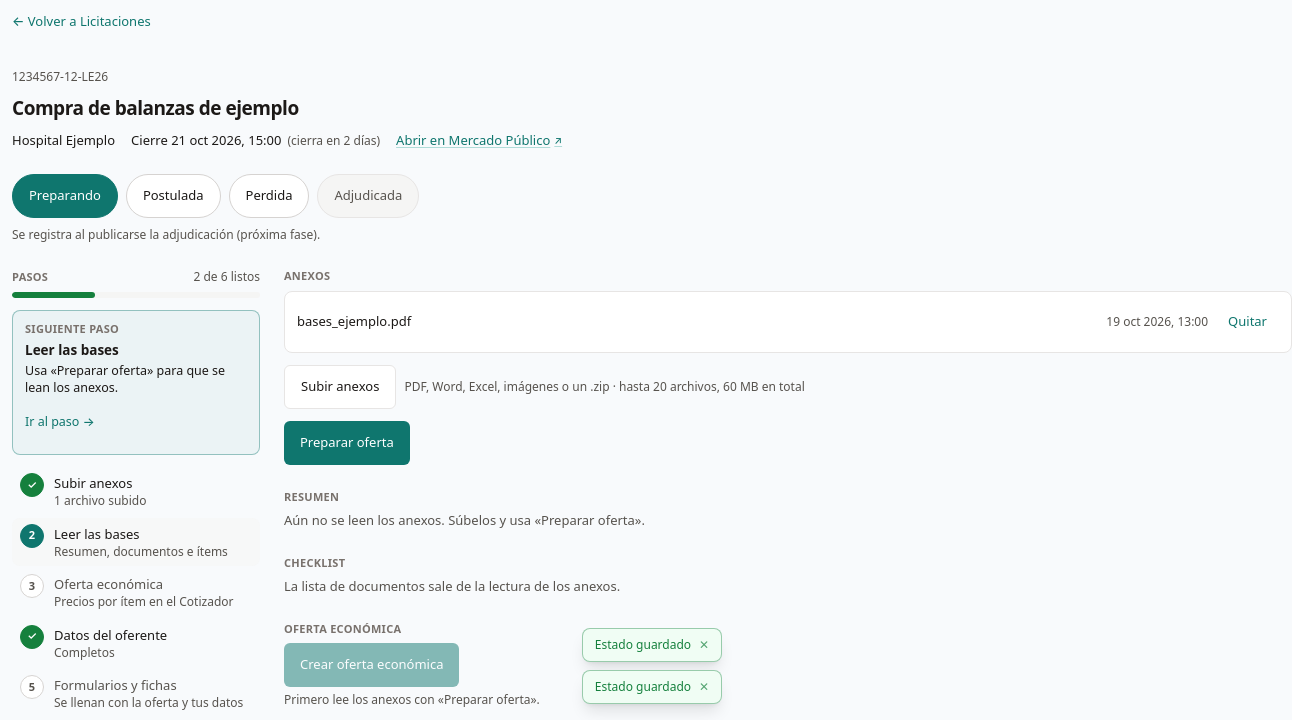
TenderPage — «Quitar anexo» › asks for the motivo, posts remove-tender-annex and reads the page again
Click the button with aria-label "Quitar bases_ejemplo.pdf". click: x=1248, y=322
box: [1216,300,1279,344]
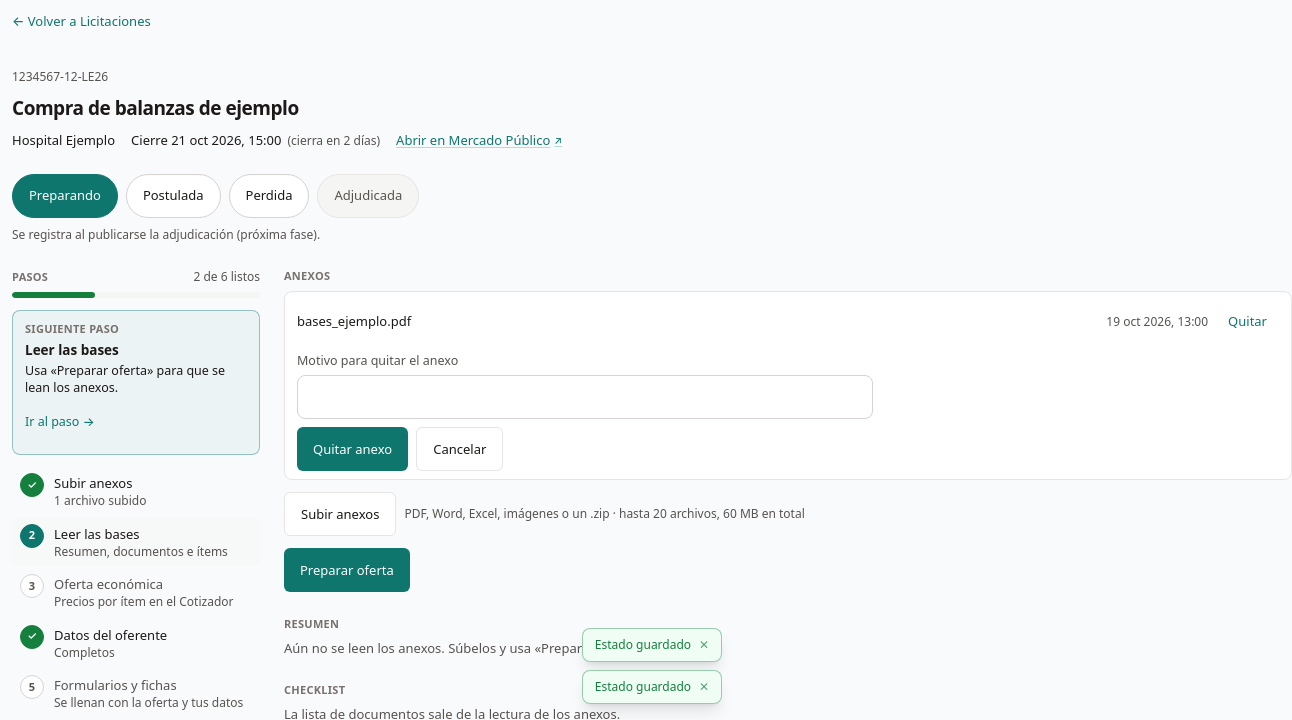
Click the button "Quitar anexo". click: x=353, y=449
box: [297,427,408,471]
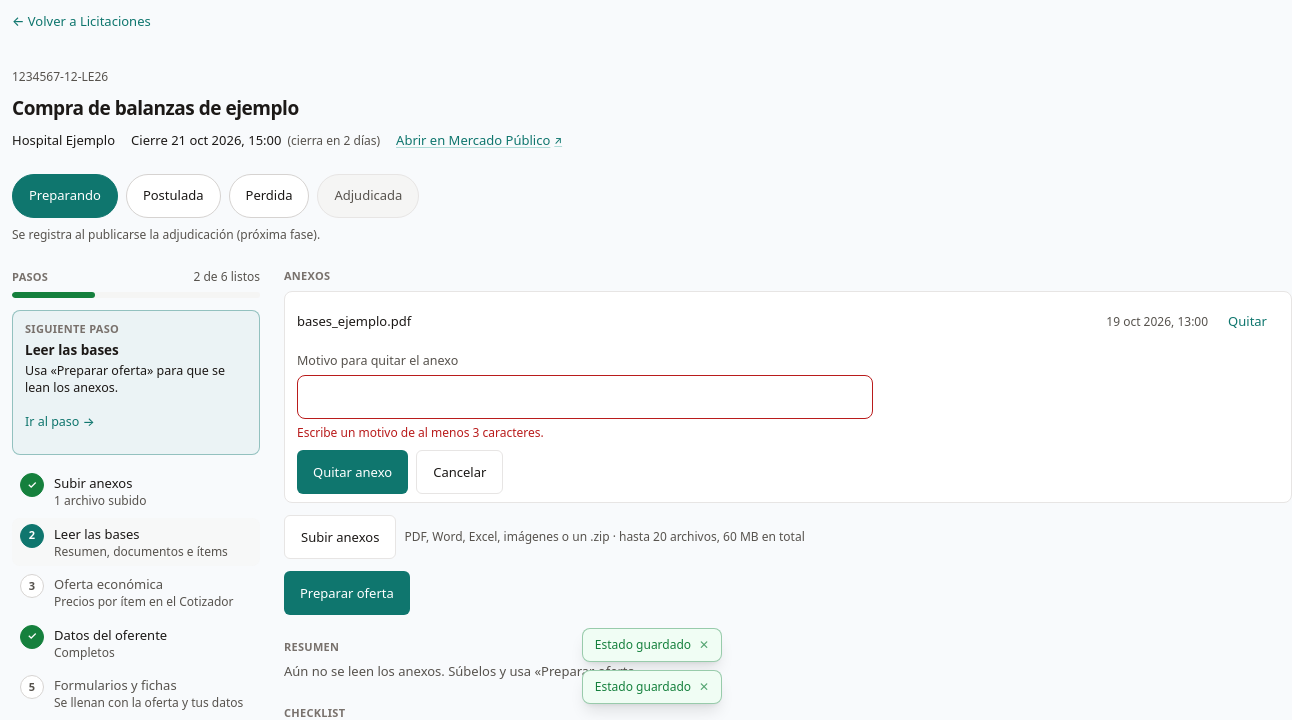
Expected: the text "Escribe un motivo de al menos 3 caracteres." is shown, [297,424,544,441]
Type "Es de otra licitación" into the field labelled "Motivo para quitar el anexo". click: x=585, y=397
box: [297,375,873,419]
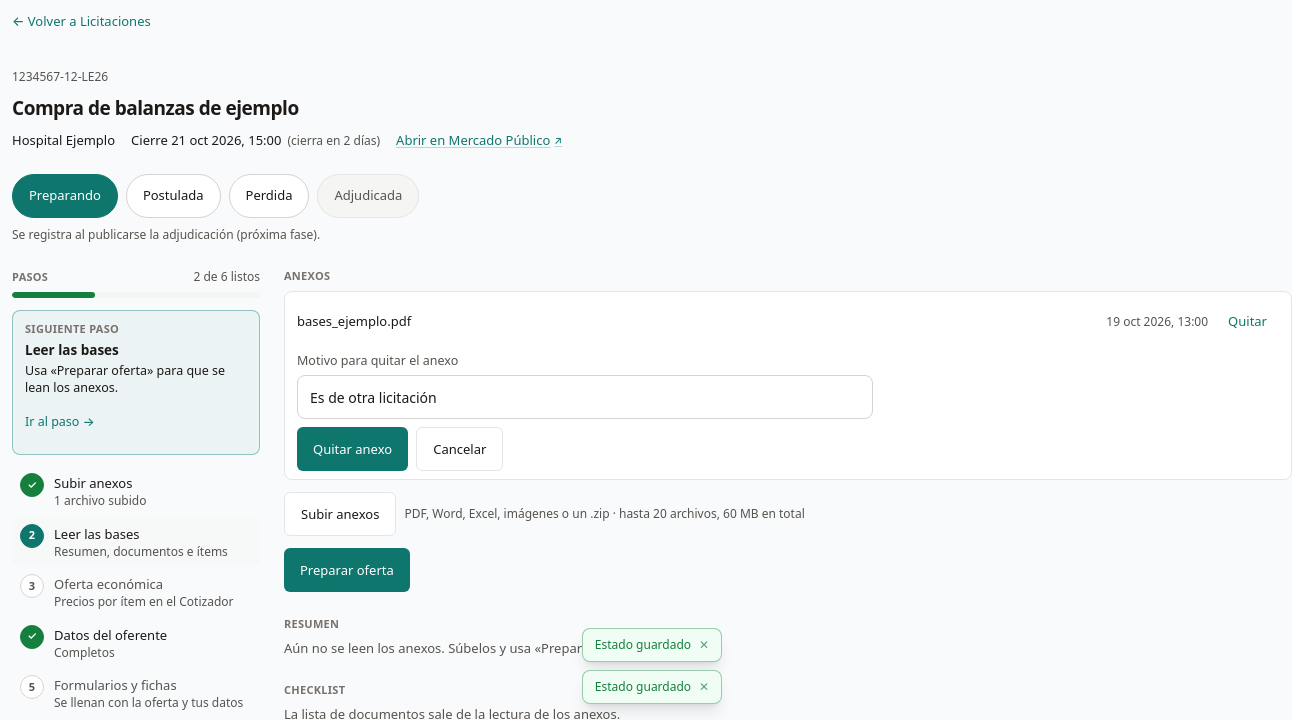
Click the button "Quitar anexo". click: x=353, y=449
box: [297,427,408,471]
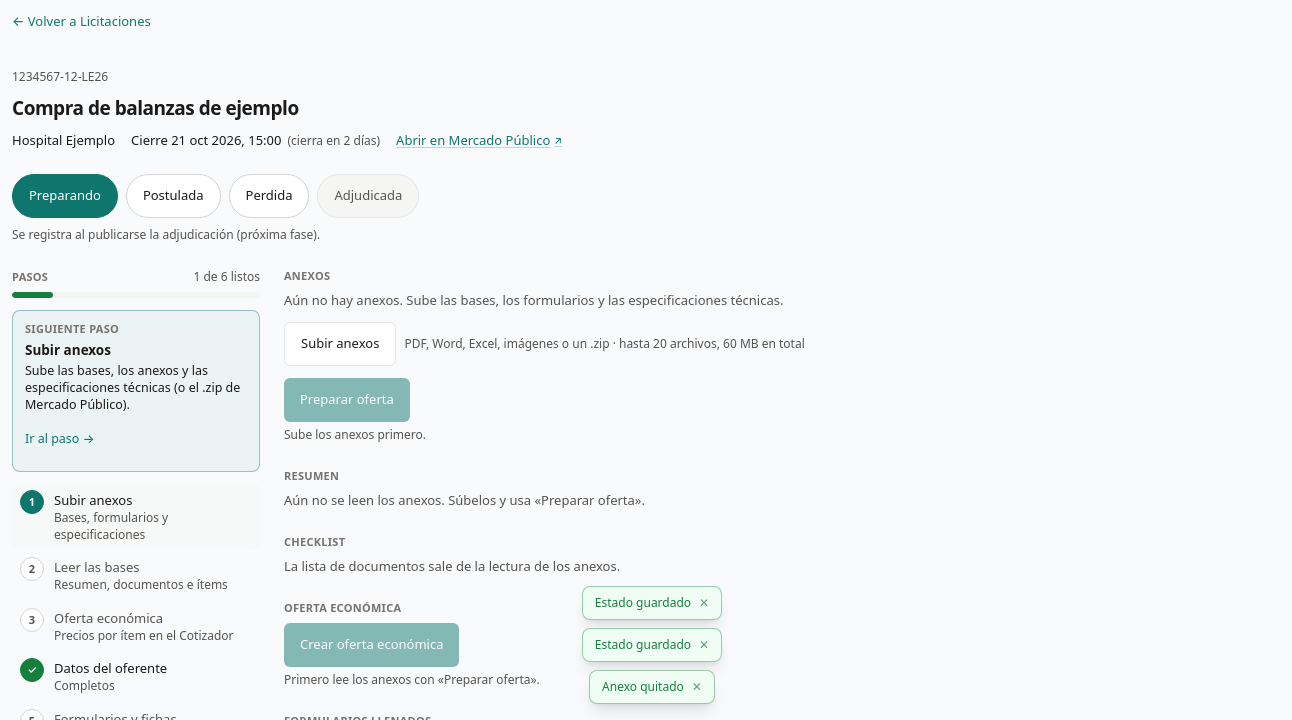
Expected: the text "Aún no hay anexos" is shown, [284,290,783,308]
